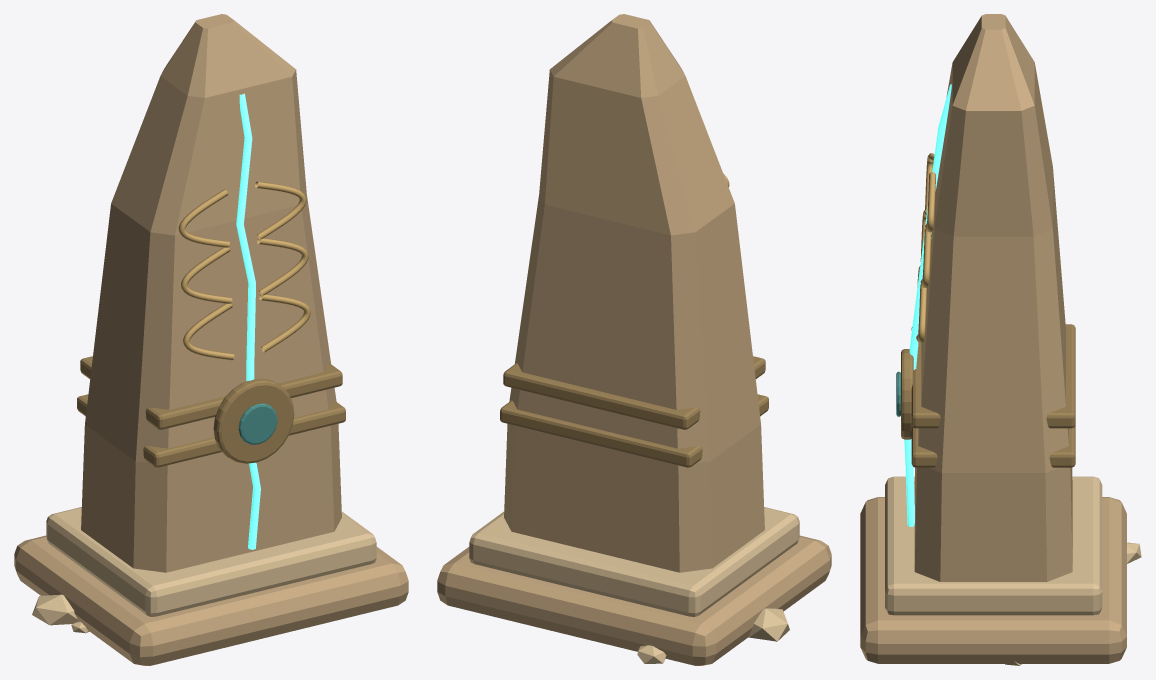
Rendered from SealStone.fbx.
3 renders of one model, left to right at view 1: azimuth 30°, elevation 25°; view 2: azimuth 150°, elevation 25°; view 3: azimuth 270°, elevation 25°, orthographic.
Parts seen in each view (by area): view 1: SealStone; view 2: SealStone; view 3: SealStone.
Part boxes in pixels (x1,y1,x2,y2): SealStone: (14, 14, 408, 665); SealStone: (437, 14, 831, 665); SealStone: (860, 14, 1141, 665).
Size of the model in its own units: 180 by 327 by 142.
